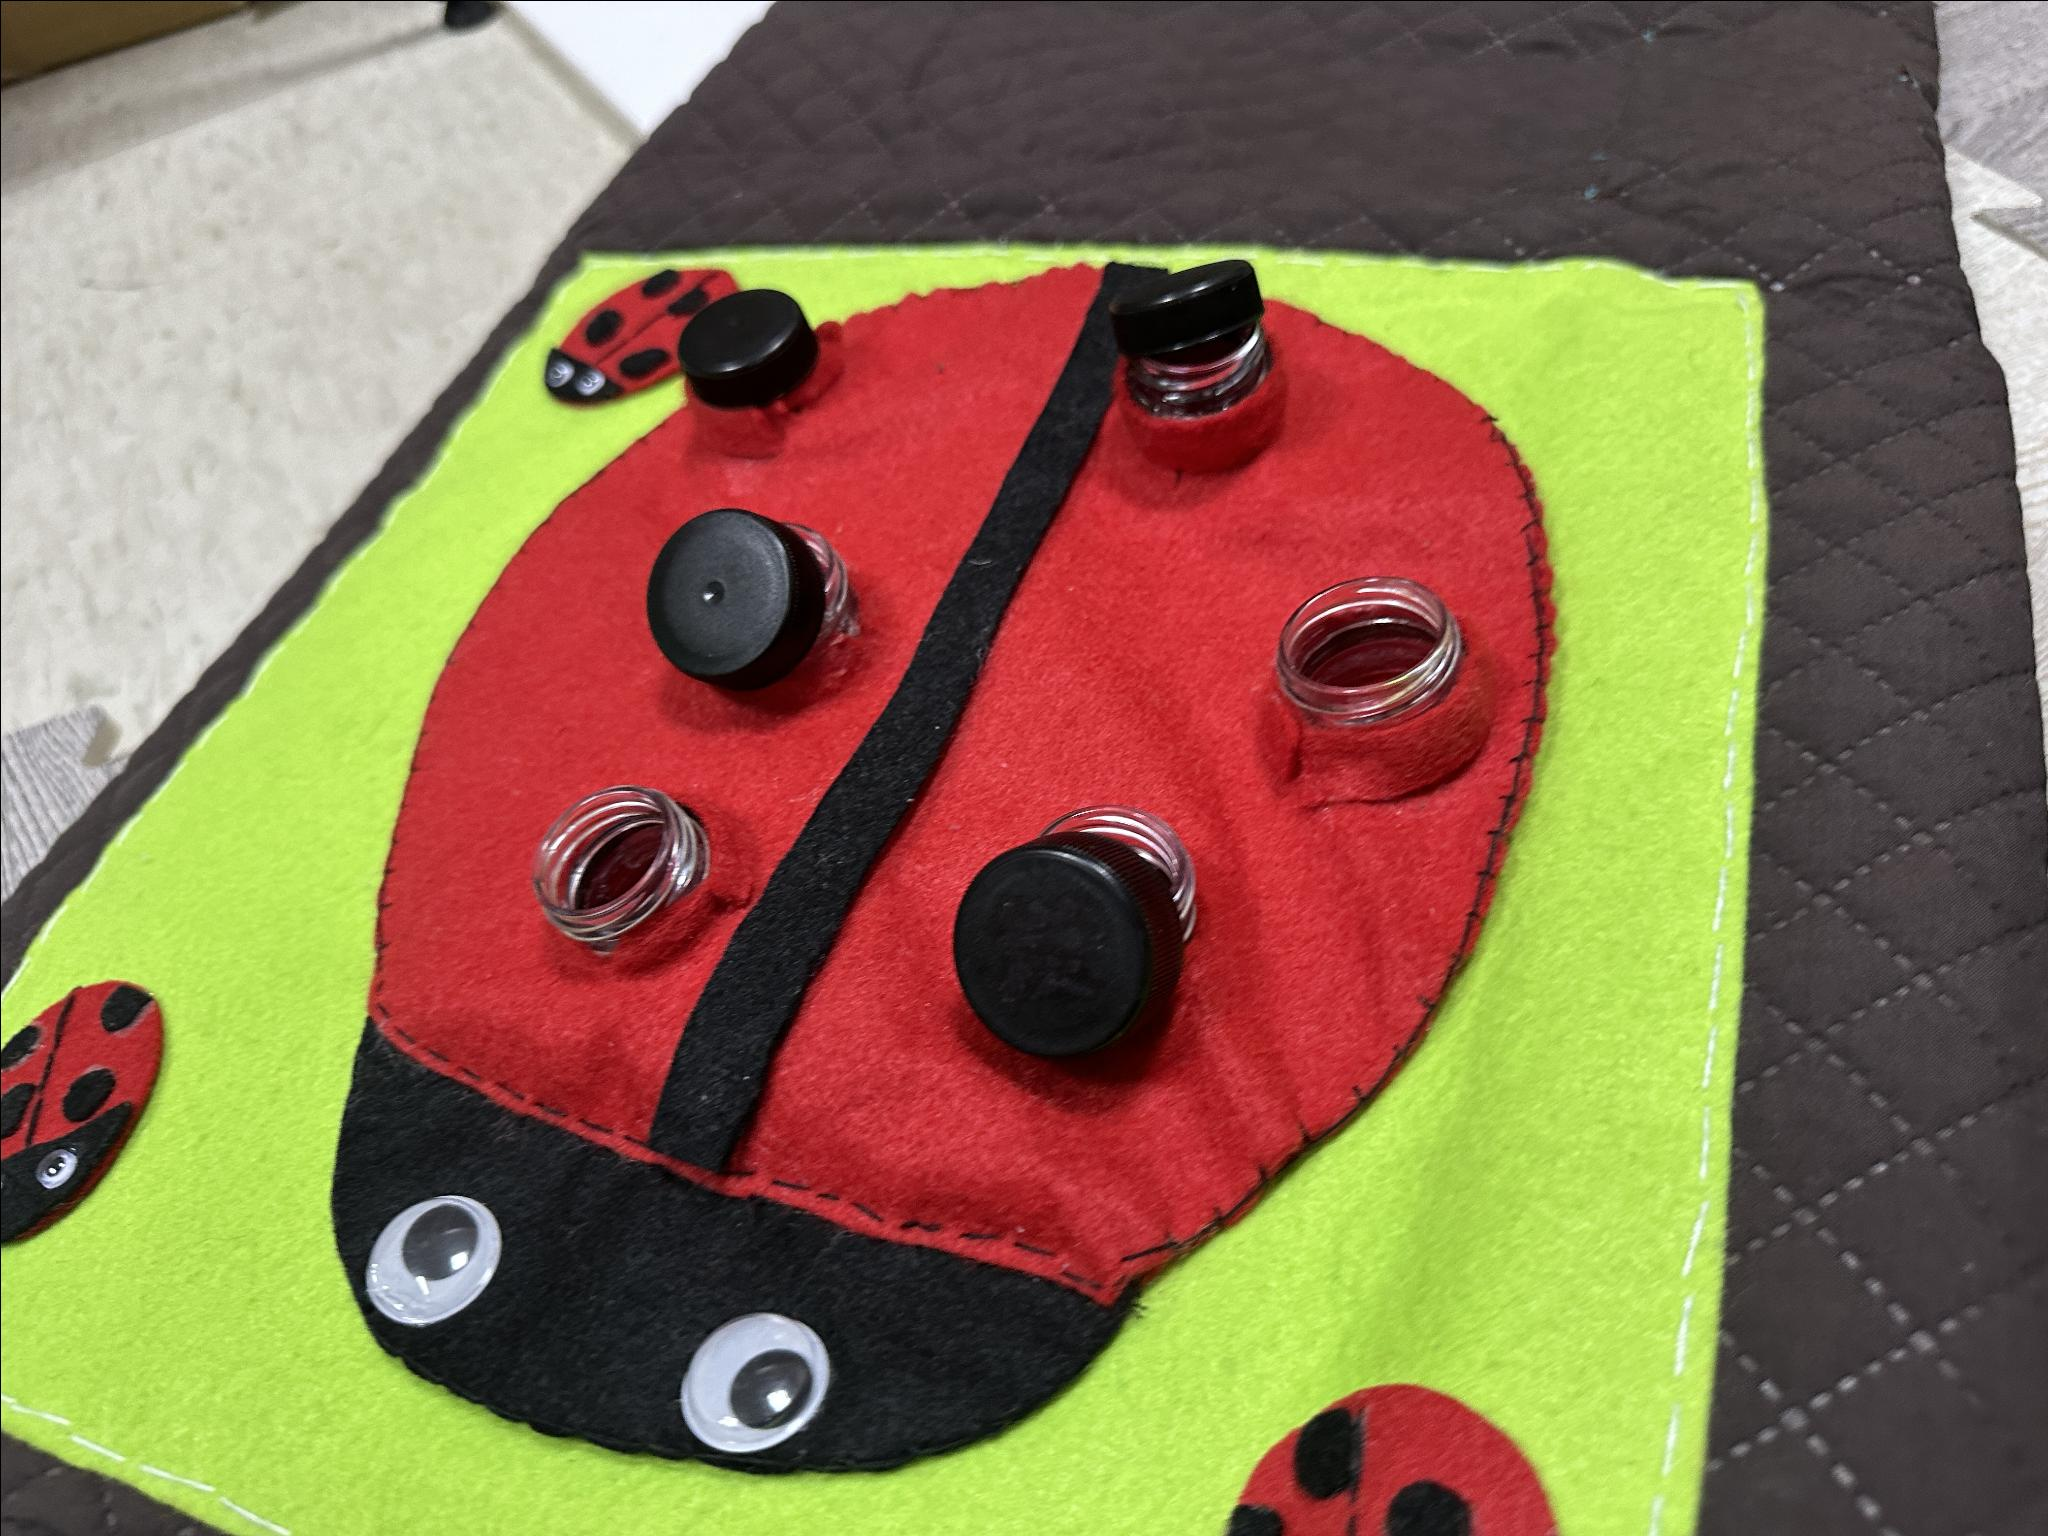cap_ng: (951, 760, 1214, 1089), (1111, 226, 1290, 492), (640, 494, 860, 703)
cap_ok: (666, 266, 830, 447)
